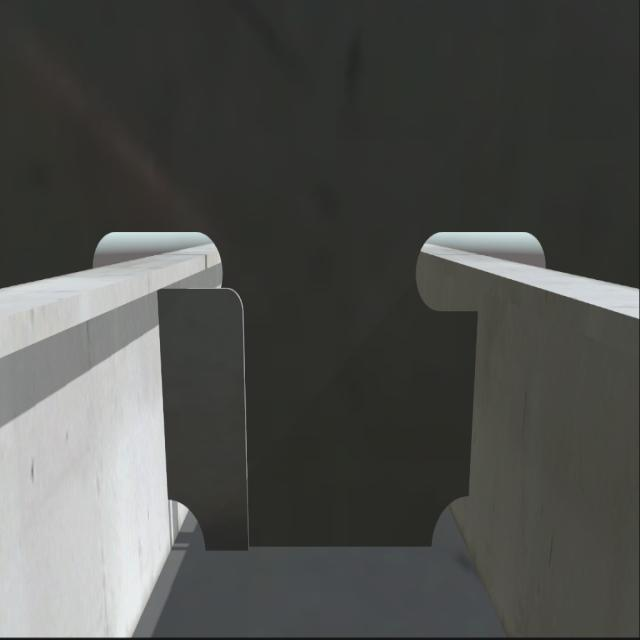fillet_hole: (166, 502, 206, 552), (432, 500, 468, 550)
fillet_yong_jeop_jang: (201, 538, 437, 556)
longi_yong_jeop_jang: (454, 306, 486, 508), (146, 281, 174, 488)
plate_CP05: (164, 290, 250, 549)
